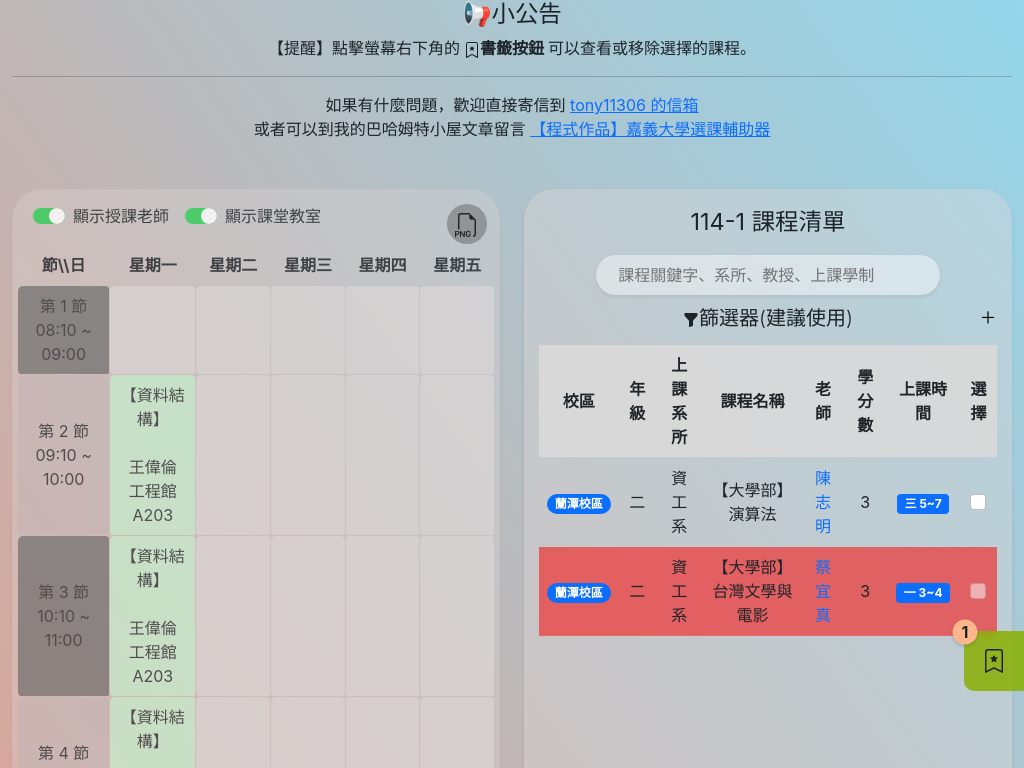
Scenario: Modal 是 portal 出去的，樣式靠 .desktop-modal 這個 class 掛上
Click the button with class "edit-btn": click(994, 661) 964,631 -> 1023,691
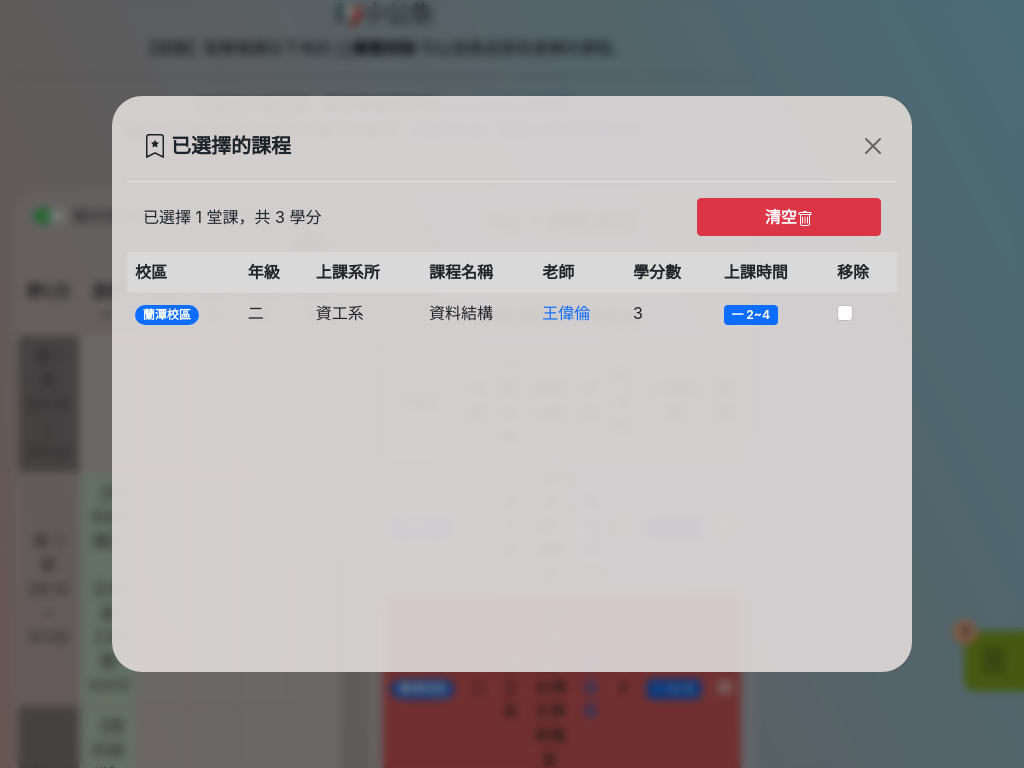
Check: the dialog is shown, box 112,96 -> 912,672
